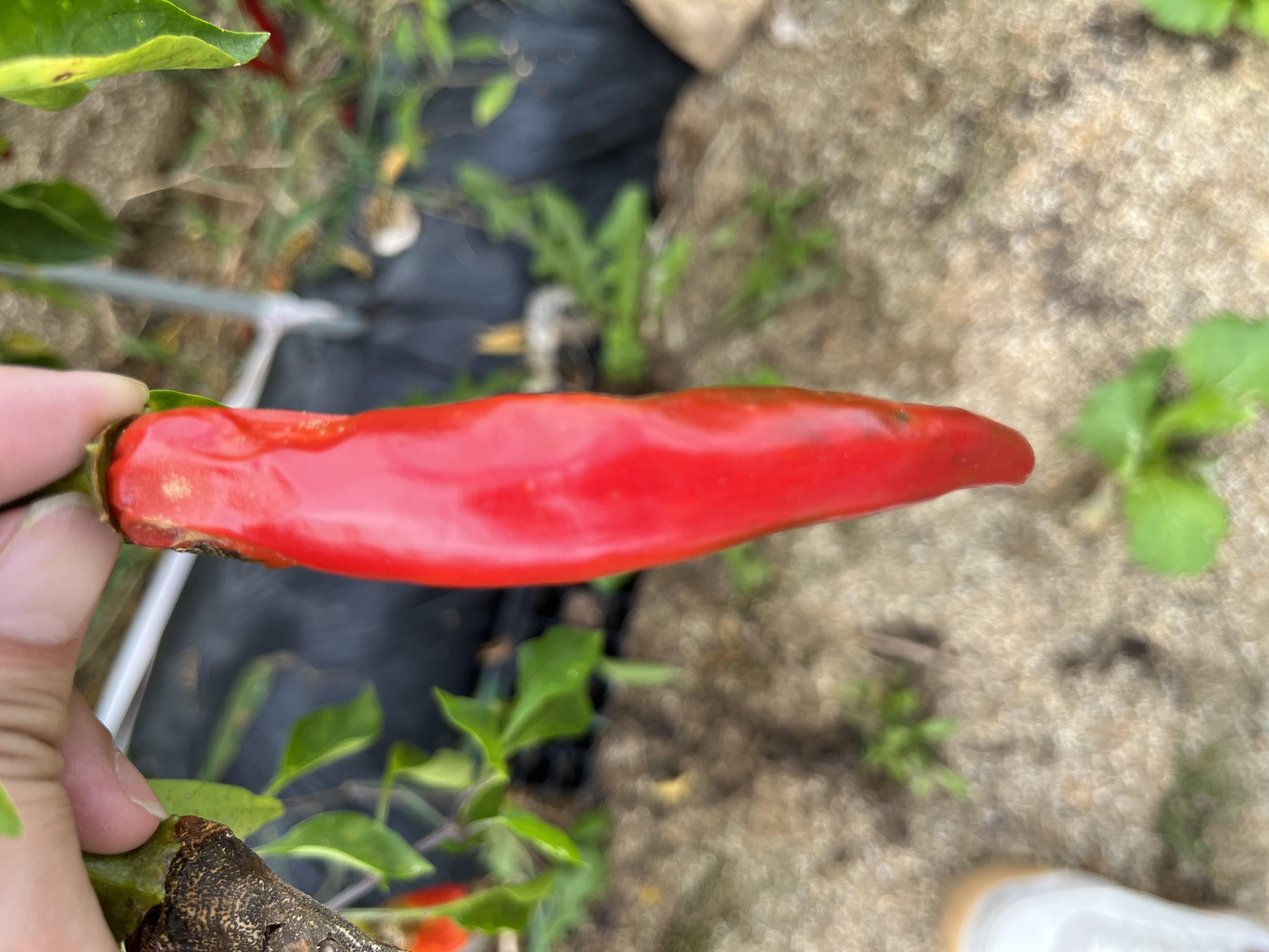Buah Cabai Sehat: (95, 381, 1038, 591)
